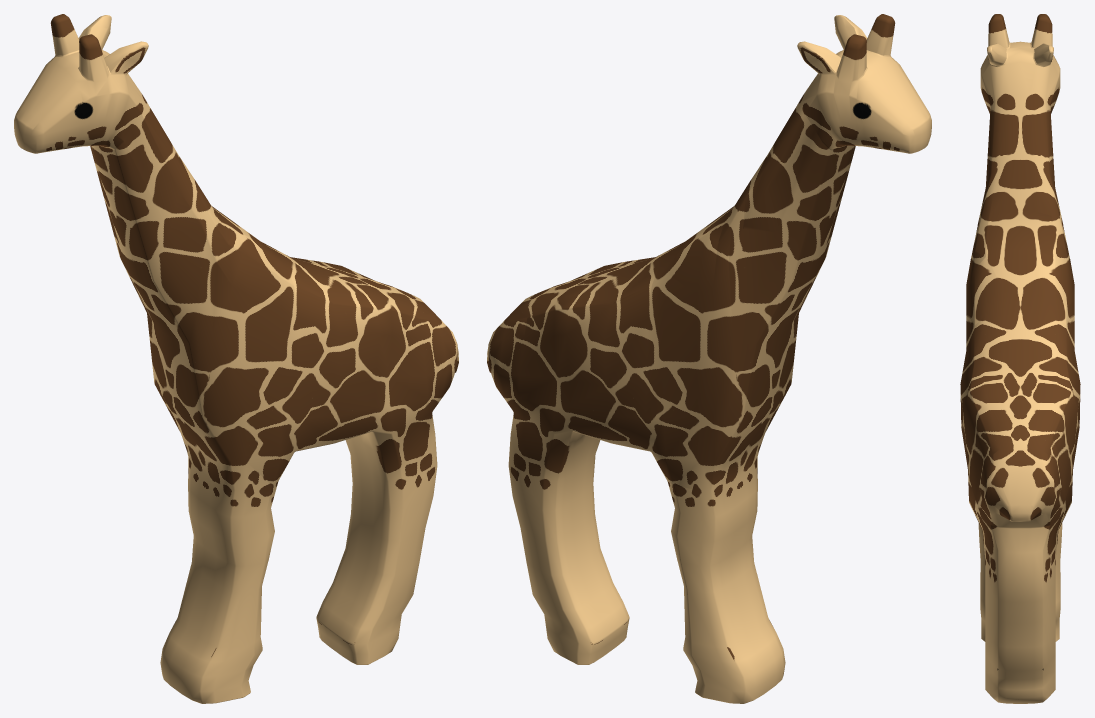
The model's file is wooden_giraffe.glb.
3 renders of one model, left to right at view 1: azimuth 30°, elevation 25°; view 2: azimuth 150°, elevation 25°; view 3: azimuth 270°, elevation 25°, orthographic. The views are drawn at different scales.
Visible parts, largest first — view 1: Giraffe; view 2: Giraffe; view 3: Giraffe.
Part boxes in pixels (bbox=[...]): Giraffe: bbox=[14, 14, 458, 703]; Giraffe: bbox=[487, 14, 931, 703]; Giraffe: bbox=[960, 14, 1080, 703].
Size of the model in its own units: 1.4 by 2.13 by 0.409.
1 material, 1 textured.
